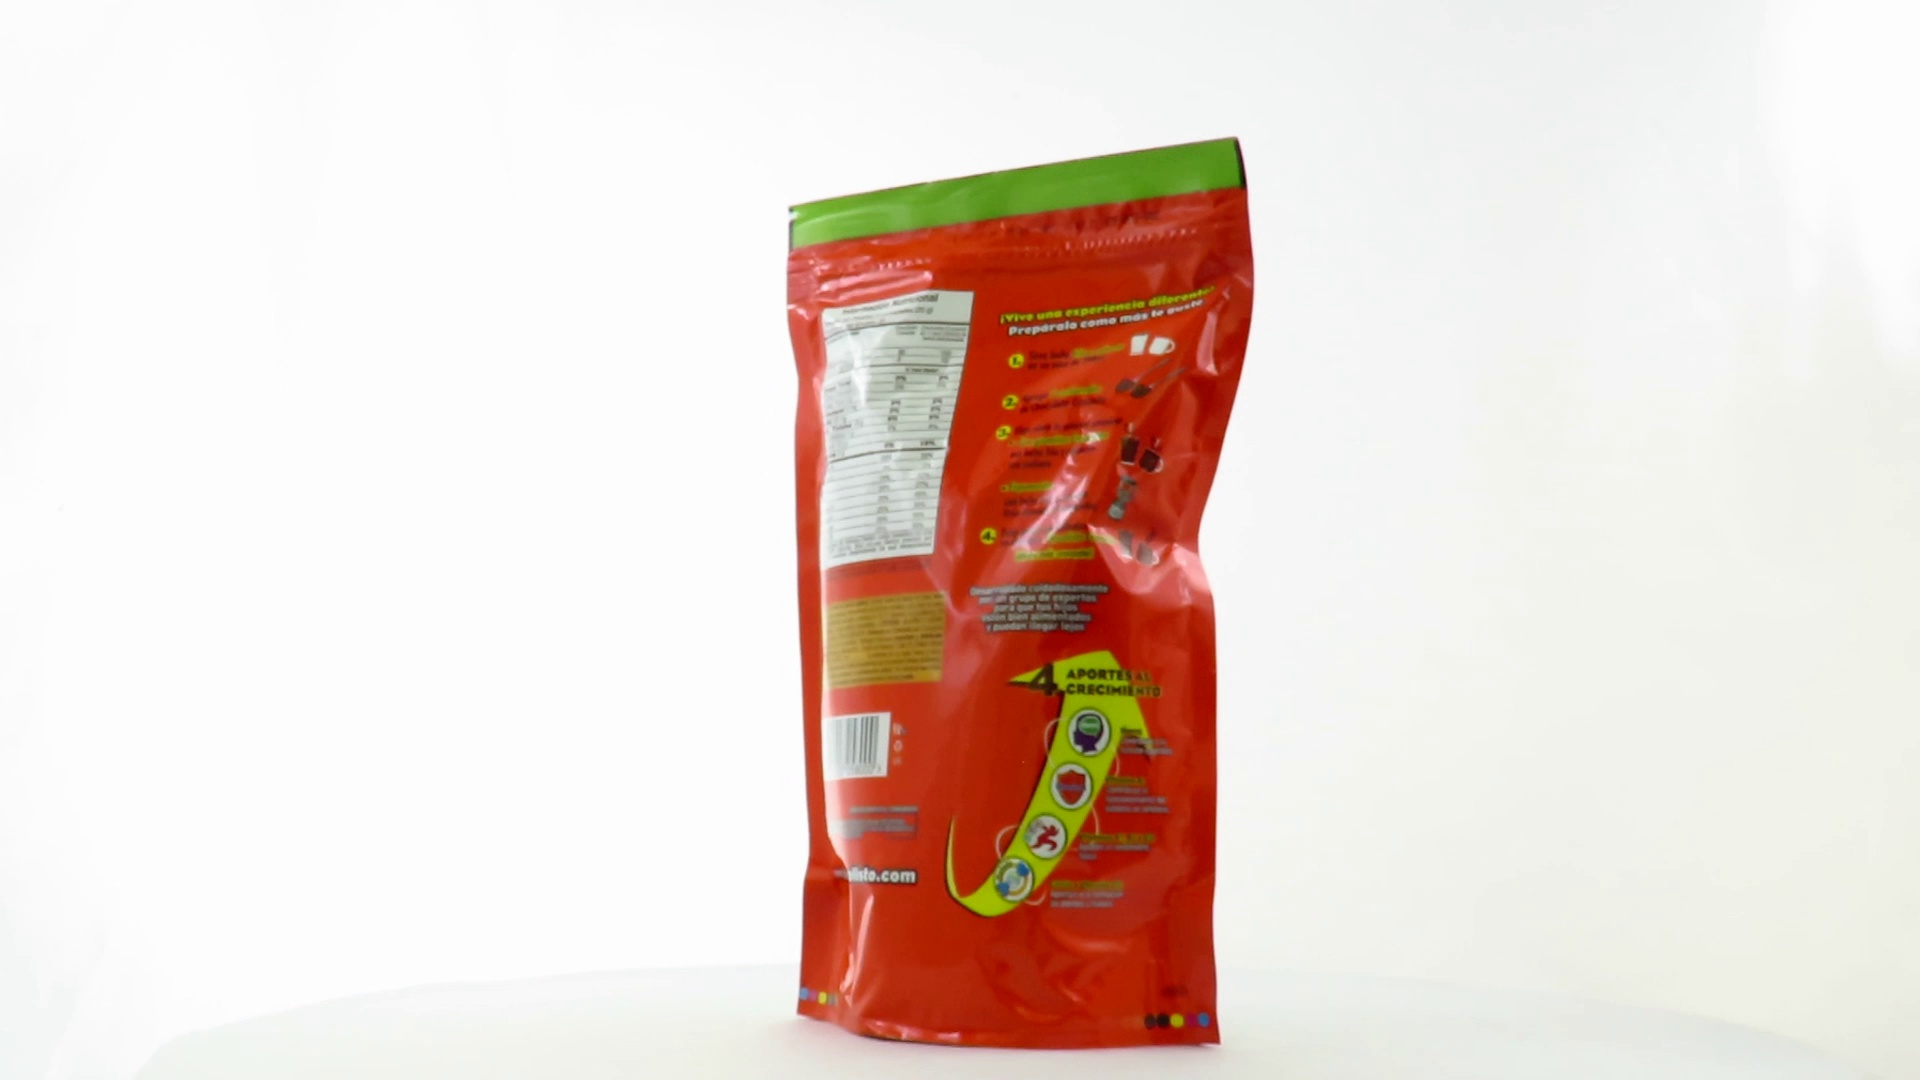COL0170102DYP50000: (781, 131, 1261, 1058)
